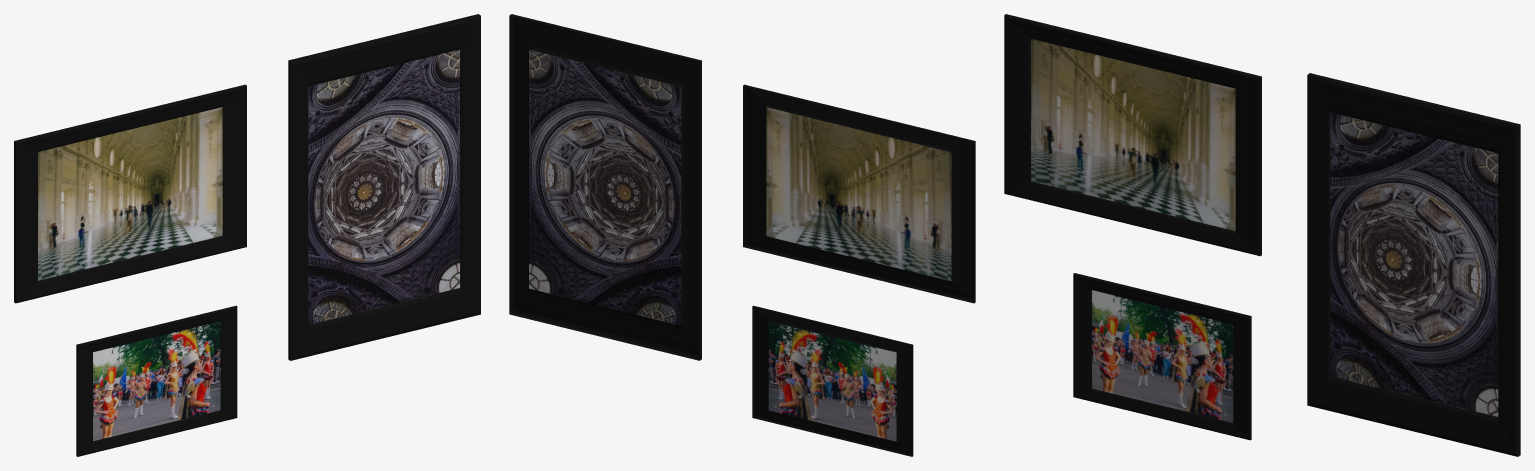
Rendered from Pictures2.obj.
3 views of the same model, side by side, from view 1: azimuth 30°, elevation 25°; view 2: azimuth 150°, elevation 25°; view 3: azimuth 330°, elevation 25° (orthographic). The views are drawn at different scales.
Visible parts, largest first — view 1: Photo3, Photo1, Photo2; view 2: Photo3, Photo1, Photo2; view 3: Photo3, Photo1, Photo2.
Boxes of the visible parts, x1=… form: Photo3: x1=288, y1=14, x2=480, y2=360; Photo1: x1=14, y1=84, x2=246, y2=303; Photo2: x1=76, y1=305, x2=237, y2=456; Photo3: x1=509, y1=14, x2=701, y2=360; Photo1: x1=743, y1=84, x2=975, y2=303; Photo2: x1=752, y1=305, x2=913, y2=456; Photo3: x1=1307, y1=73, x2=1520, y2=456; Photo1: x1=1004, y1=14, x2=1261, y2=256; Photo2: x1=1073, y1=273, x2=1251, y2=440.
Size of the model in its own units: 1.76 by 1.24 by 0.018.
